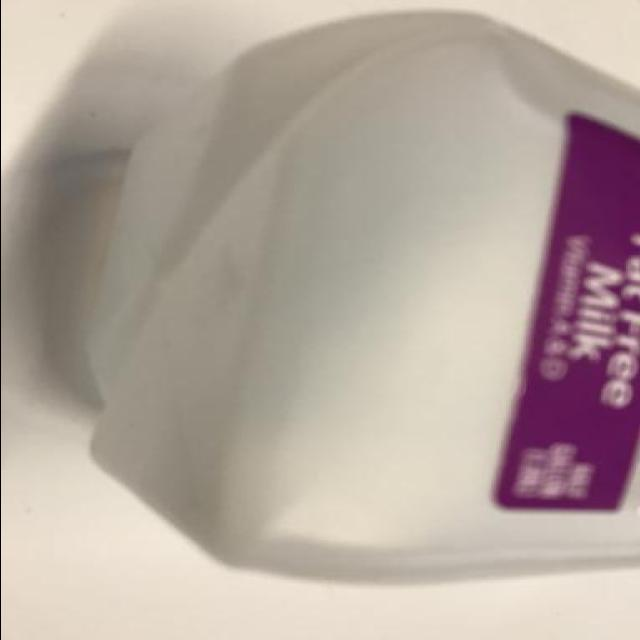litter: (75, 9, 640, 575)
